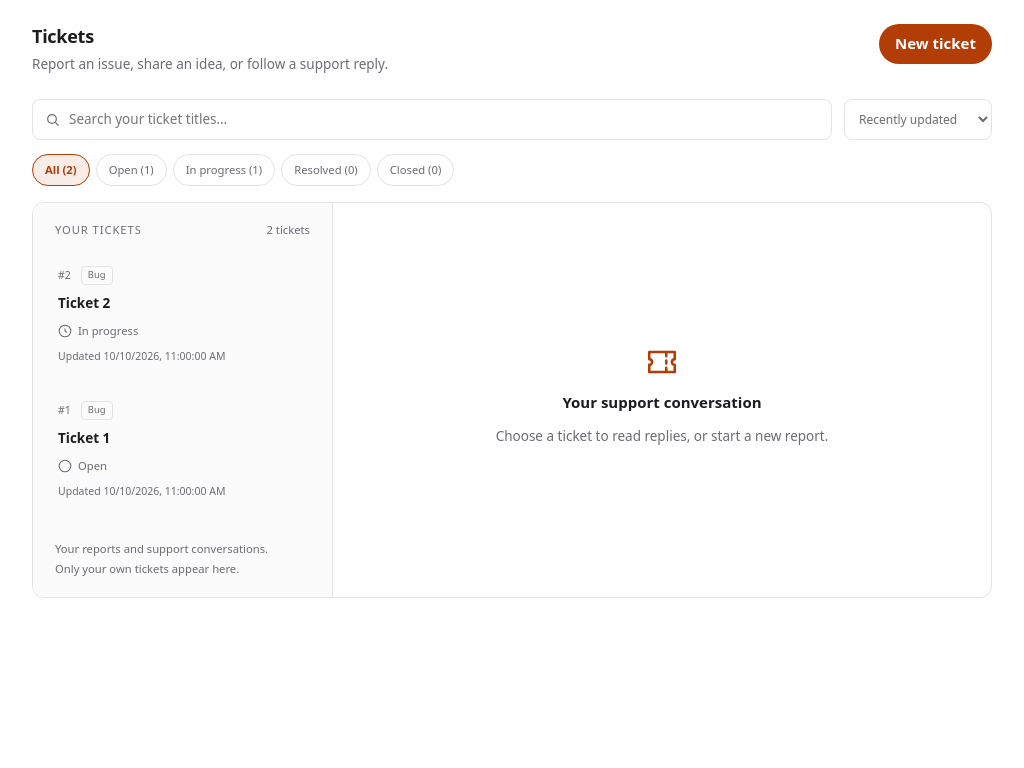
Test: TicketsView › explains when the report is grouped with similar reports
The width and height of the screenshot is (1024, 768).
Click the button "New ticket" at (936, 44), box x1=879 y1=24 x2=992 y2=64
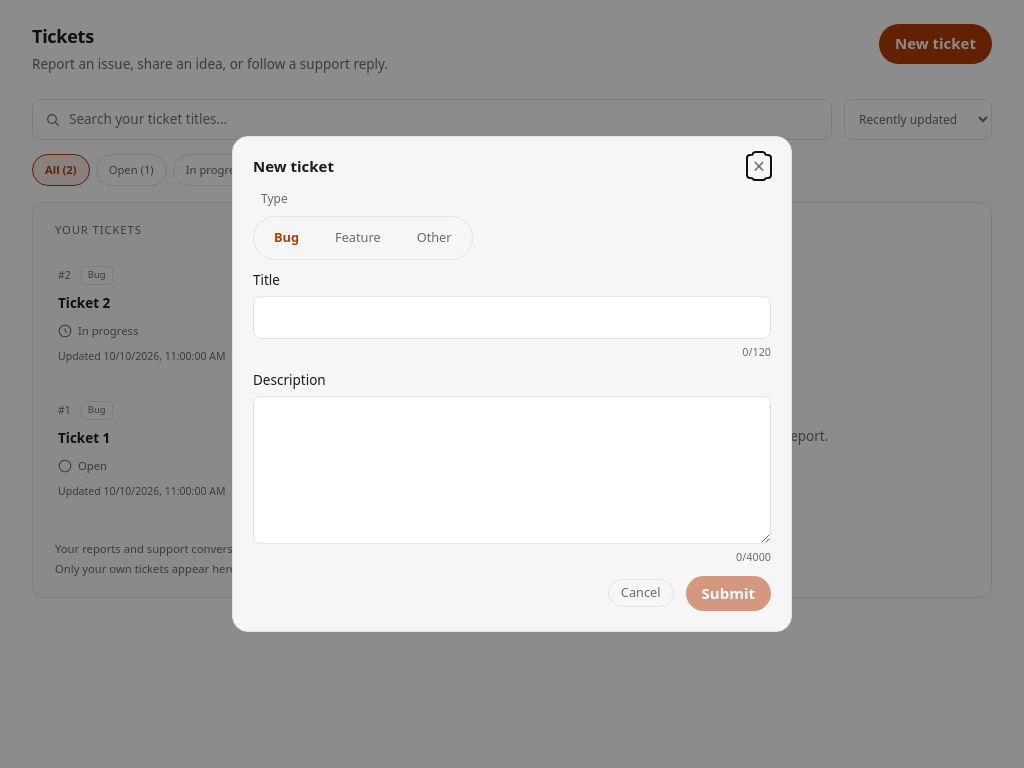
Type "Email fails" into the field named "Title" at (512, 317), box x1=253 y1=296 x2=771 y2=339
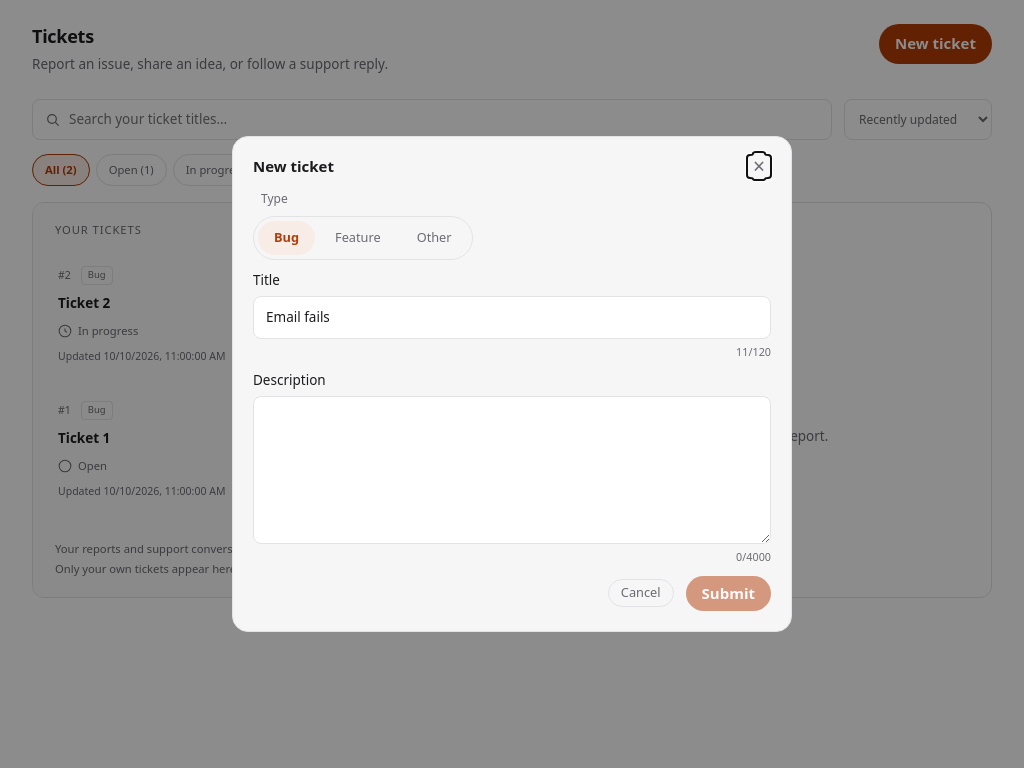
Type "Details" into the text box named "Description" at (512, 470), box x1=253 y1=396 x2=771 y2=544
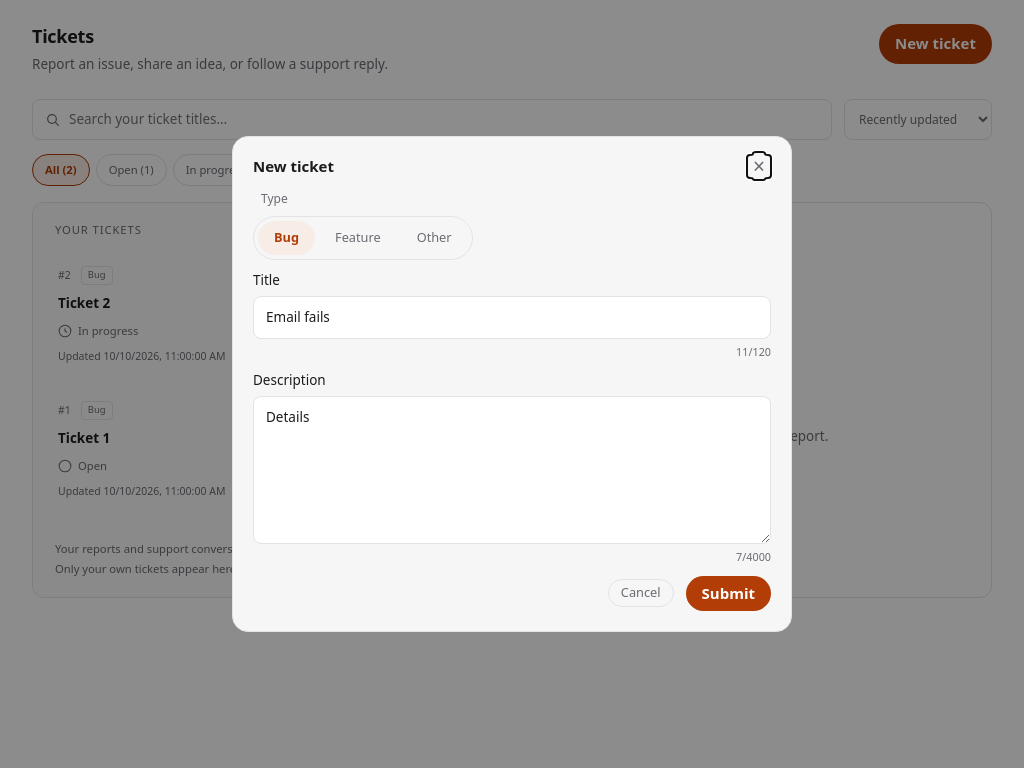
Click the button with class "submit-ticket" at (728, 593), box x1=686 y1=576 x2=771 y2=611
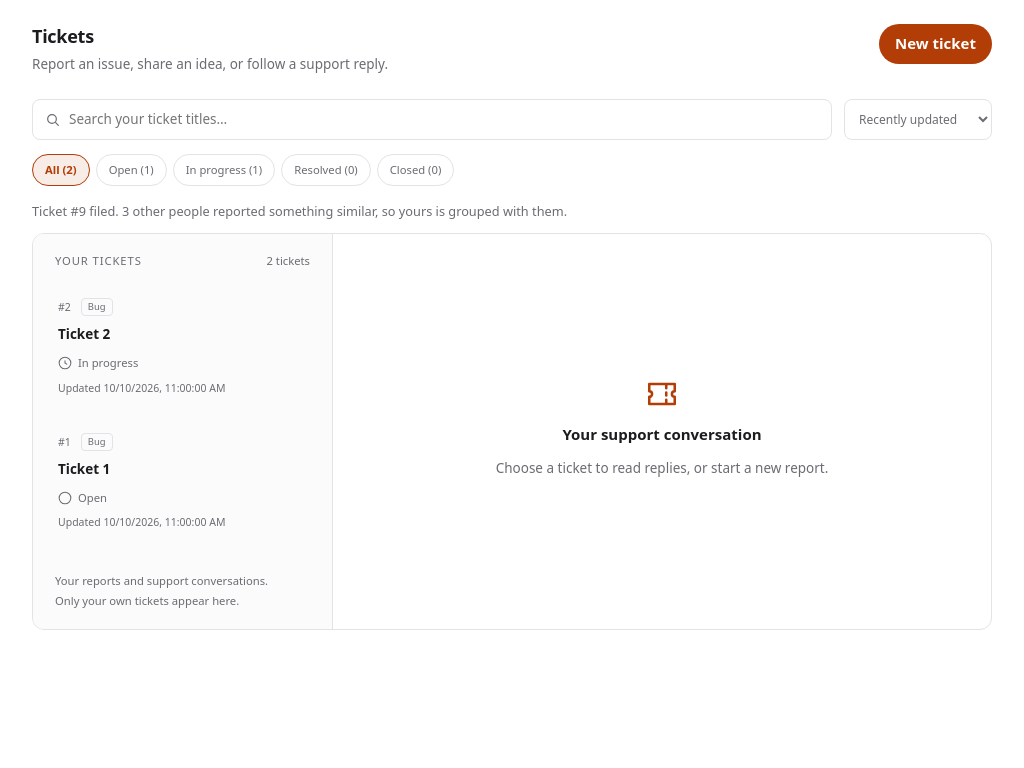
expect the message with class "notice" shows "Ticket #9 filed. 3 other people reported something similar, so yours is grouped with them.": met, box x1=32 y1=202 x2=567 y2=220
